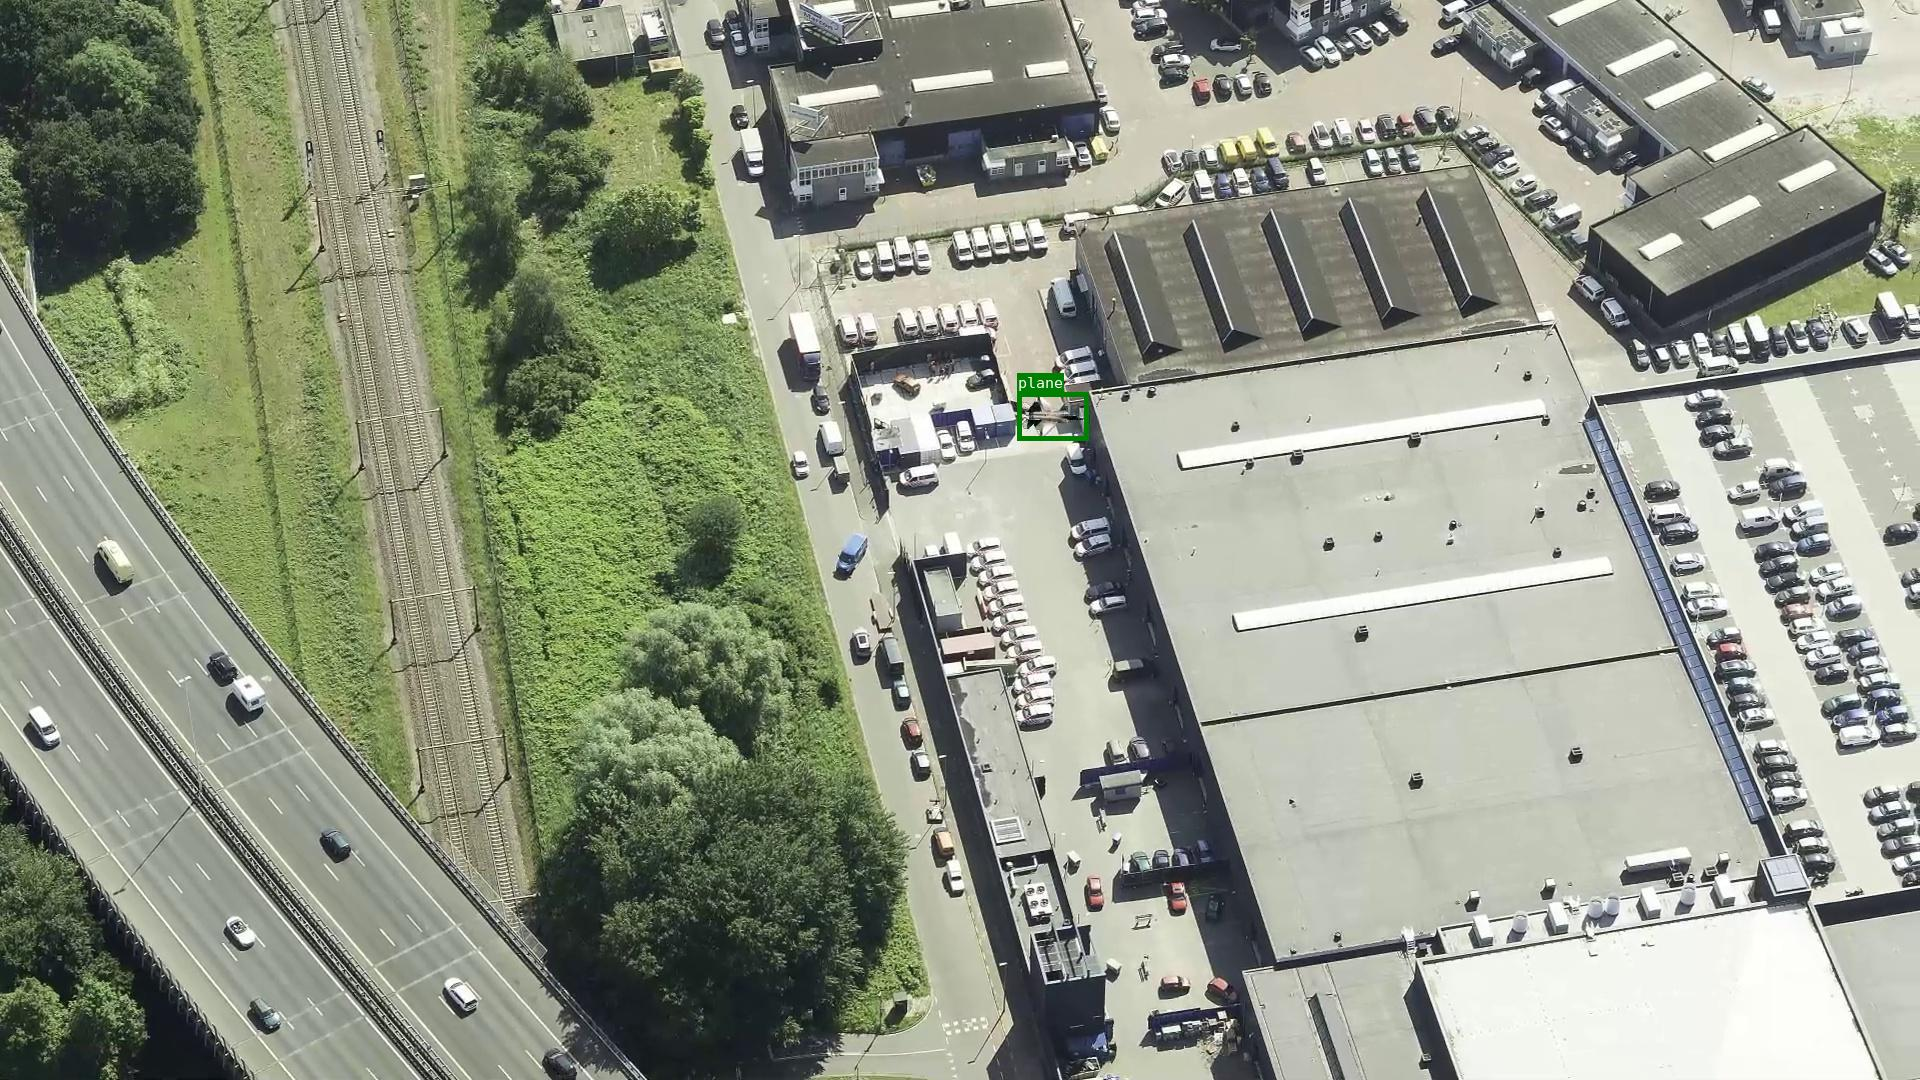plane: (1017, 392, 1088, 440)
